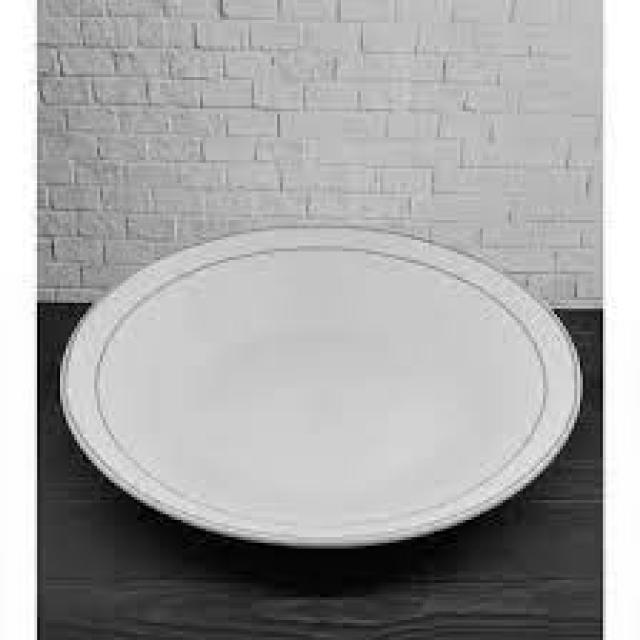dish: (39, 159, 611, 576)
